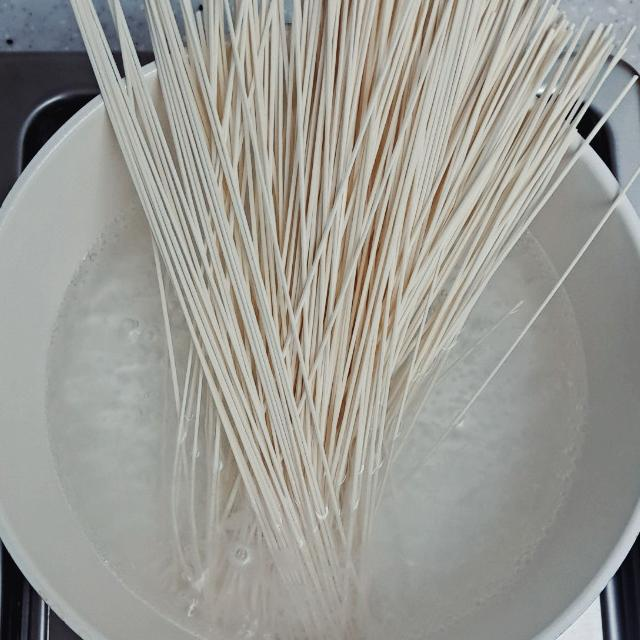noodles: (83, 0, 498, 548)
